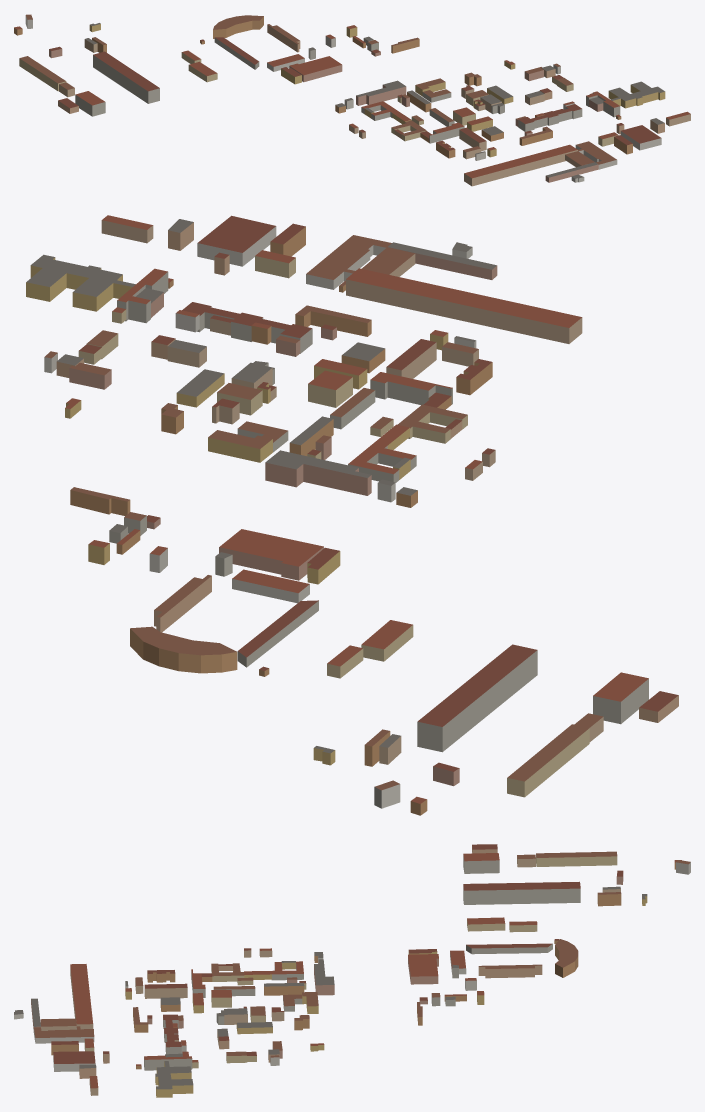
The model's file is SM_Fondale_Citta_O_02.fbx.
3 renders of one model, top to bottom at view 1: azimuth 30°, elevation 25°; view 2: azimuth 150°, elevation 25°; view 3: azimuth 270°, elevation 25°, orthographic. The views are drawn at different scales.
Parts seen in each view (by area): view 1: SM_Fondale_Citta_O_02; view 2: SM_Fondale_Citta_O_02; view 3: SM_Fondale_Citta_O_02.
Part boxes in pixels (x1,y1,x2,y2): SM_Fondale_Citta_O_02: [14, 14, 690, 186]; SM_Fondale_Citta_O_02: [26, 215, 678, 815]; SM_Fondale_Citta_O_02: [14, 844, 690, 1097].
Bounding box in the file's own units: 83099 × 93826 × 3675.
